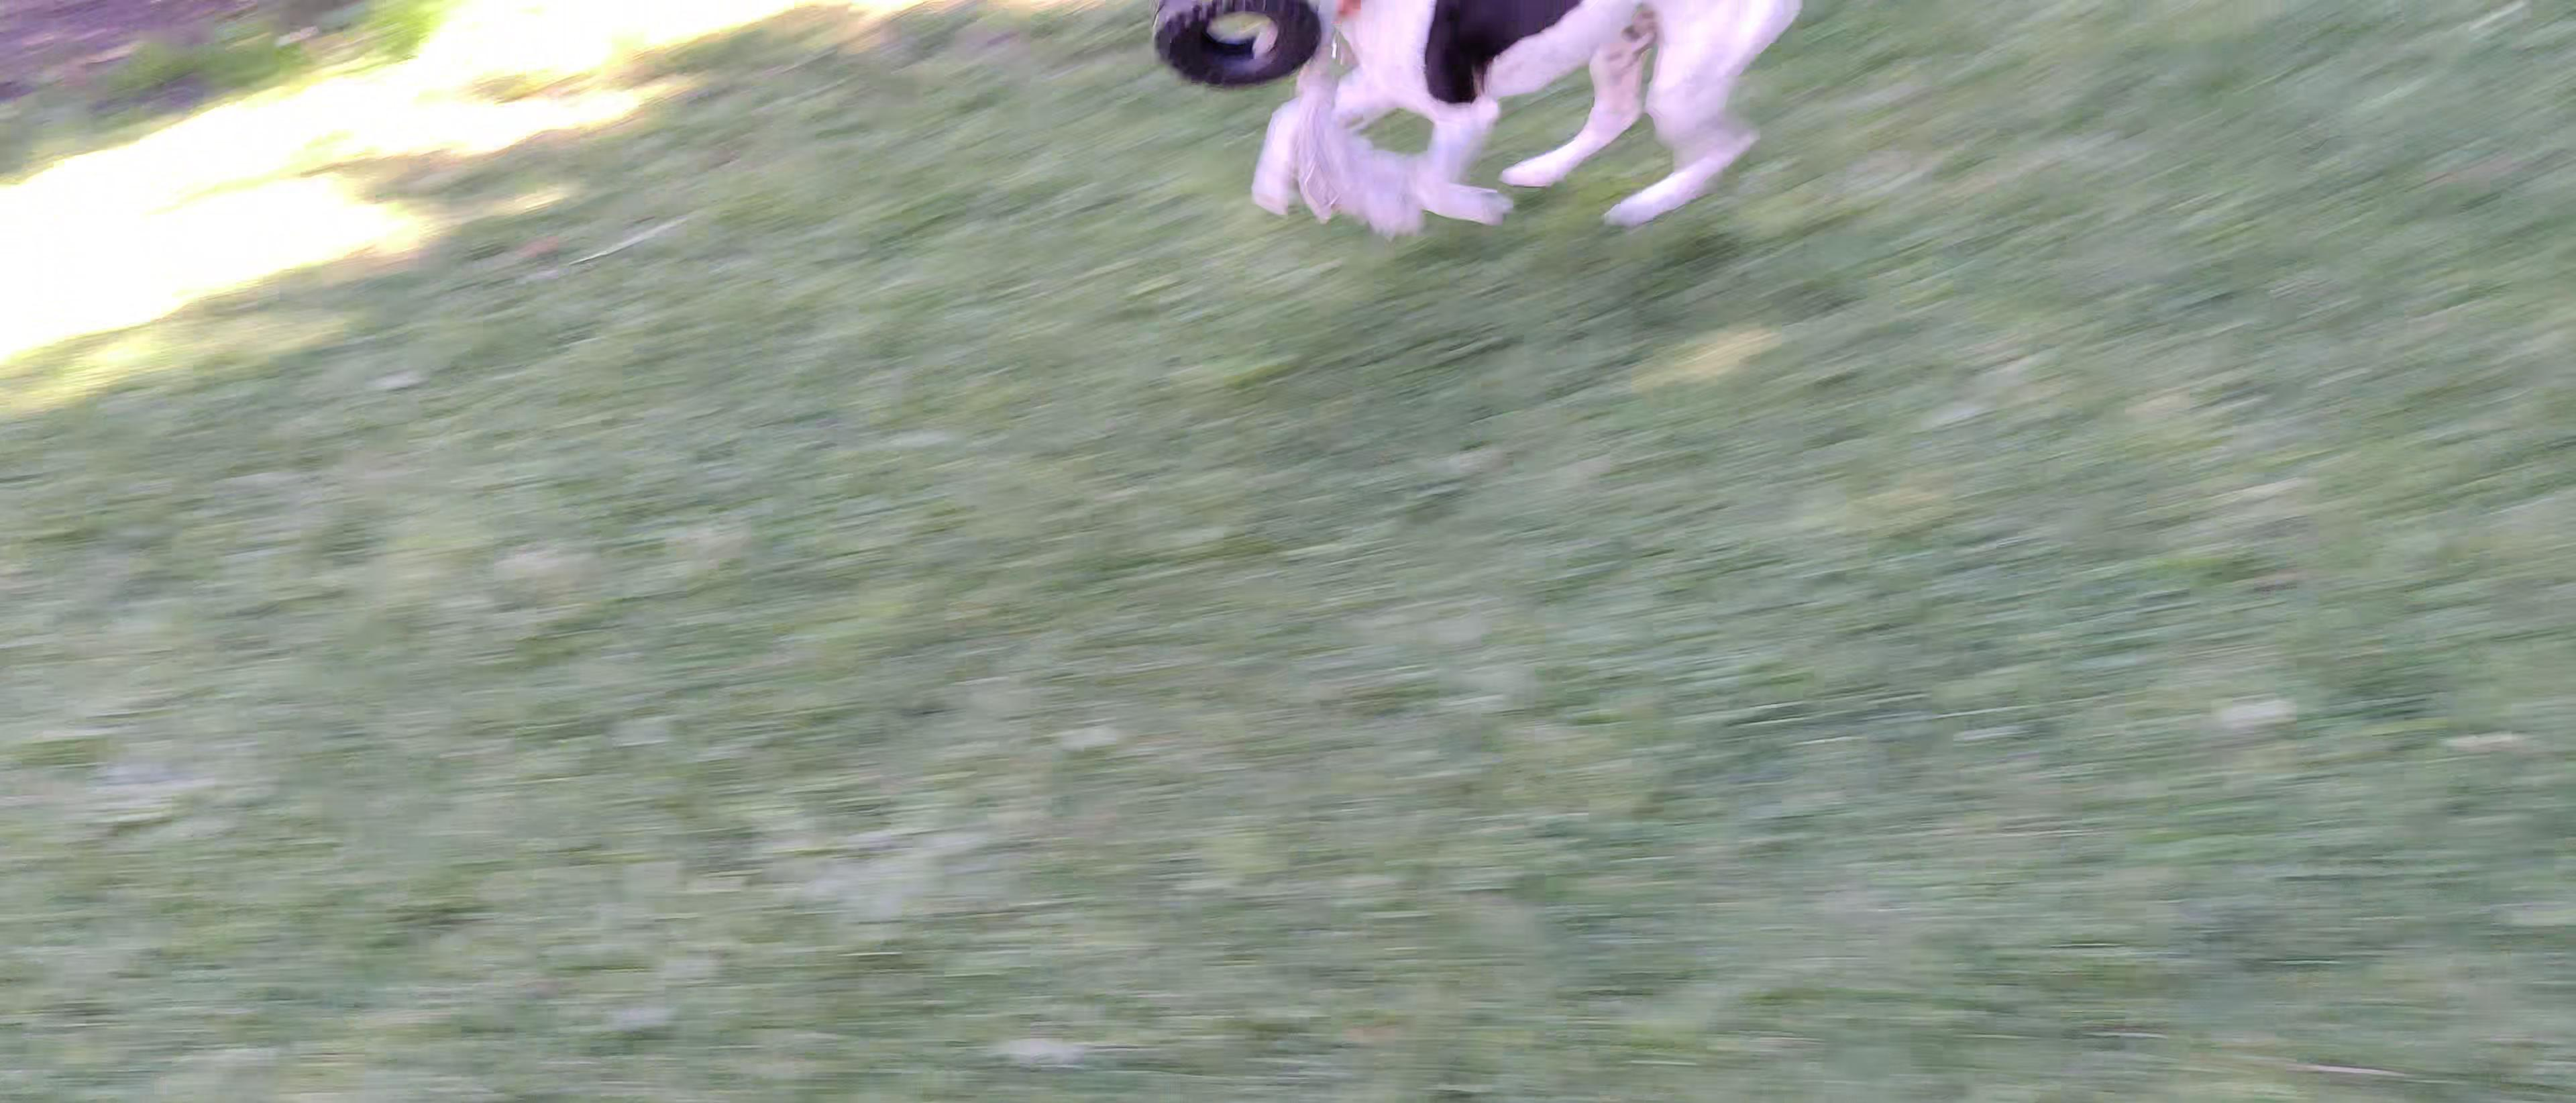Dog: (1211, 0, 1804, 238)
